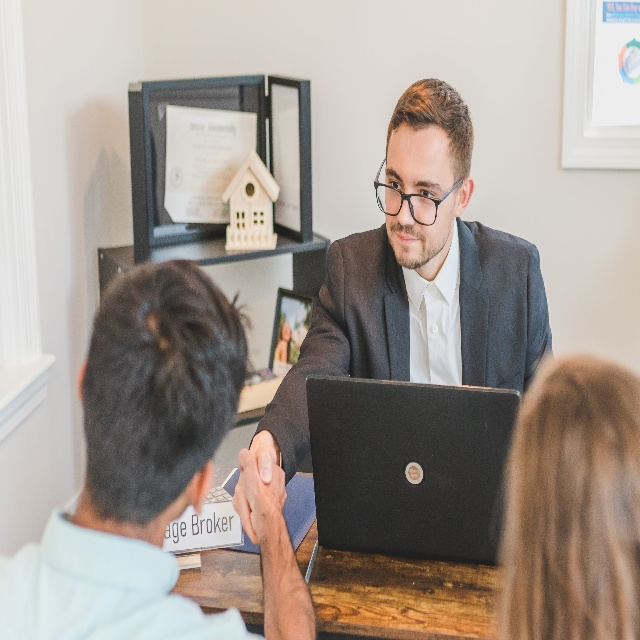Gafas: (373, 154, 464, 228)
Sin_guantes: (232, 428, 283, 547), (237, 447, 288, 534)
